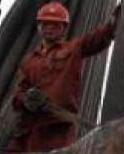gloves: (23, 87, 47, 112), (107, 2, 123, 38)
hard-hat: (34, 2, 70, 24)
ppe-suit: (0, 16, 117, 152)
